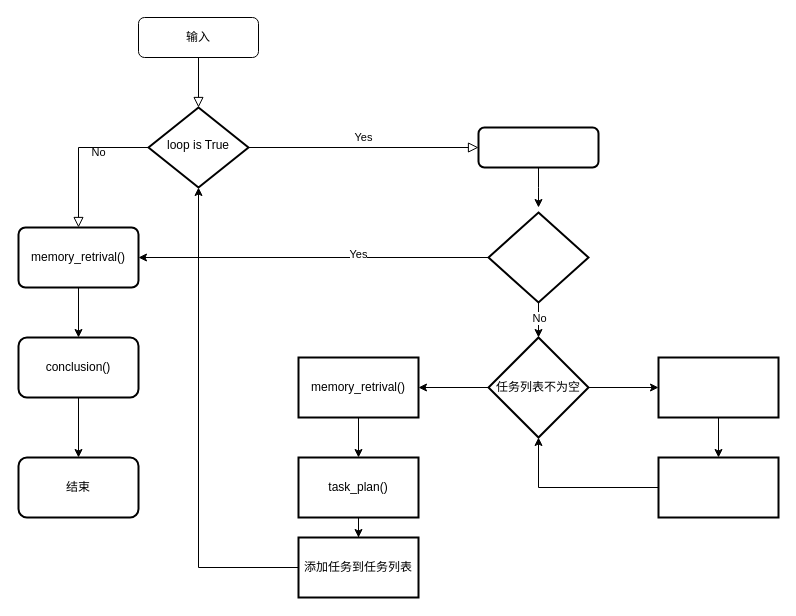
Some shapes in this 796 by 616 pixel diagram are drawn without their labels. Here are the shapes that lost their labels. From the top down, the centre of each, then its label:
At point (538, 147): "iter_id++".
At point (538, 257): "iter_id > max_iter_num".
At point (718, 387): "获取任务".
At point (718, 487): "调用Tool执行任务".
